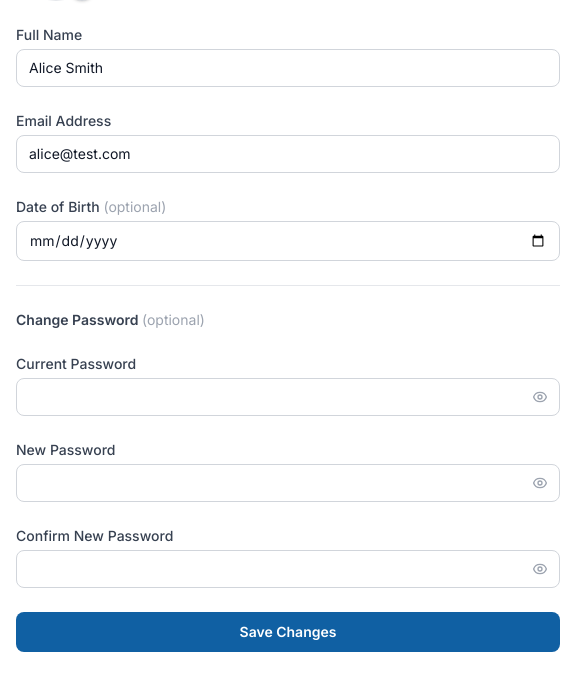
EditProfilePage › shows success message after successful update
(page scrolled)
Click the button "Save Changes" at (288, 632), box [16,612,560,652]
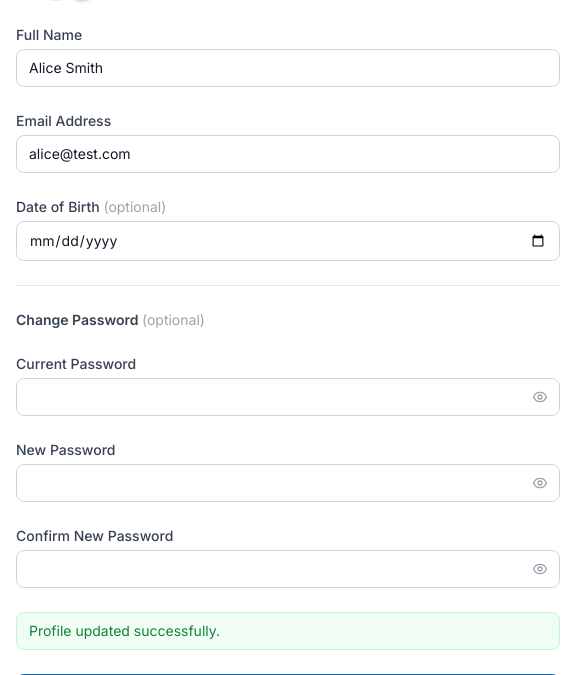
Check: the text "Profile updated successfully." is shown, box [16,612,560,650]
